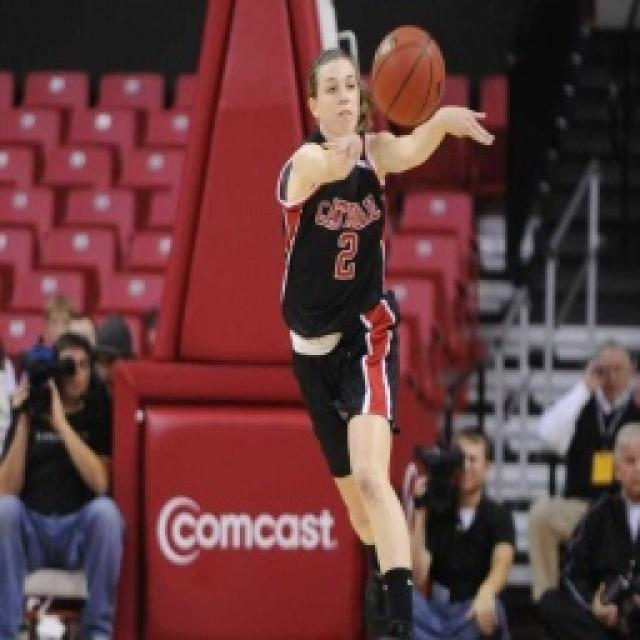basketball: (371, 19, 446, 128)
